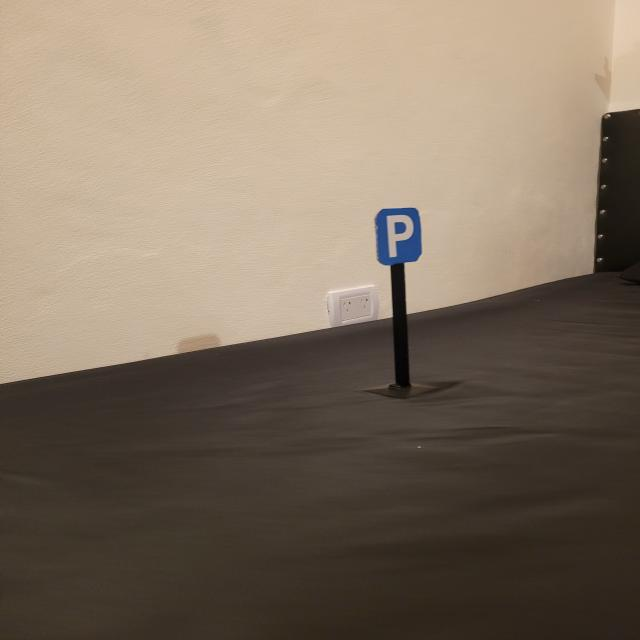parking: (375, 207, 423, 266)
